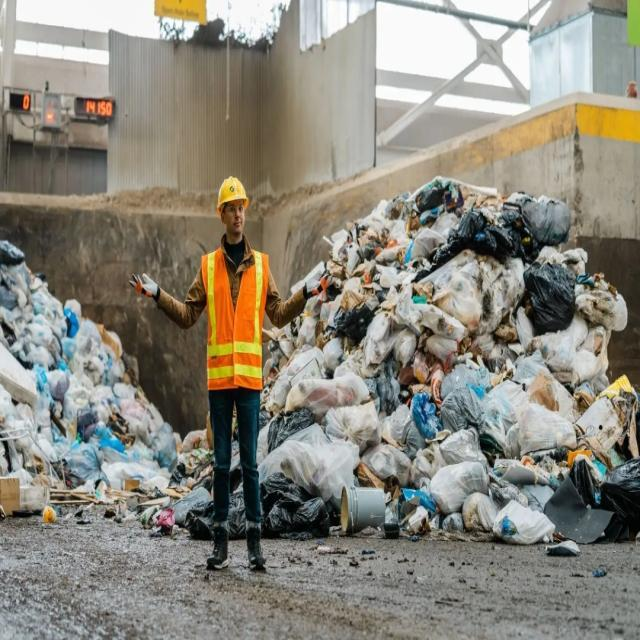Trashbag: (540, 451, 640, 547), (519, 254, 590, 343), (263, 469, 339, 543), (452, 202, 526, 264), (521, 188, 574, 244), (264, 407, 324, 452), (410, 174, 462, 216)
